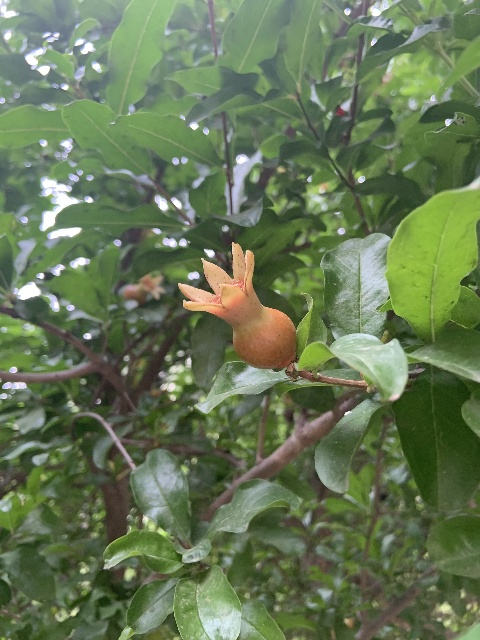early-fruit: (179, 241, 296, 369), (123, 272, 166, 305)
